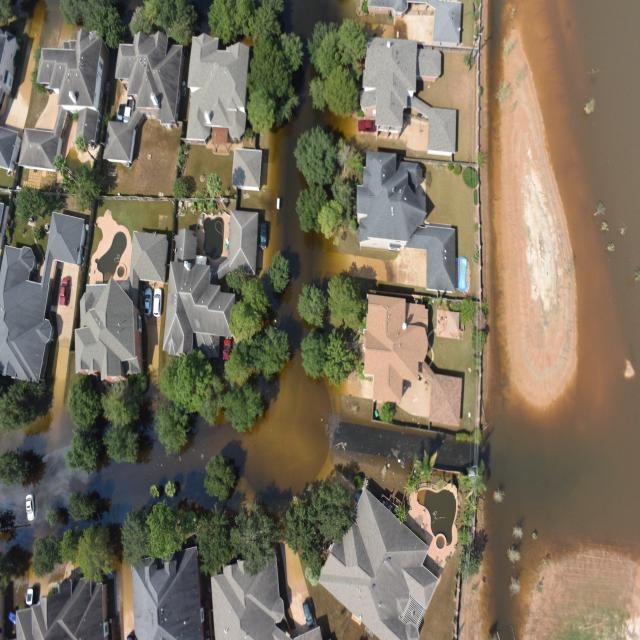fire: (0, 96, 370, 640), (462, 0, 640, 640), (283, 0, 357, 43), (115, 0, 129, 24), (130, 2, 135, 15)
